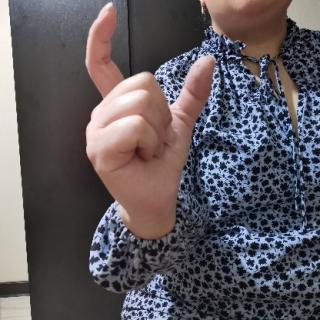NOON: (75, 0, 222, 223)
